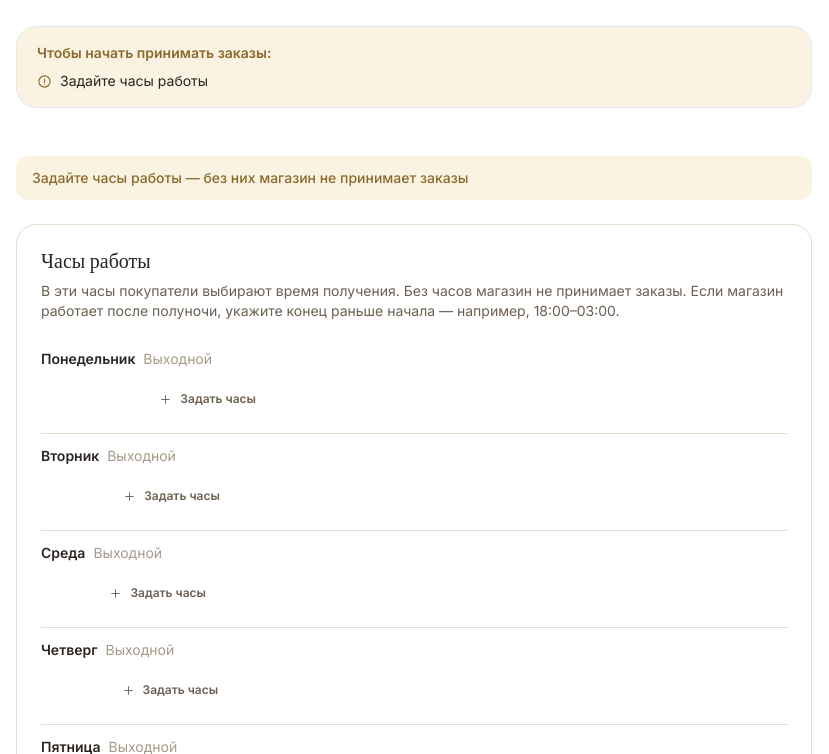
Test case: HoursPage › saves all seven days on the 5-minute grid, a day off as an empty list
The width and height of the screenshot is (829, 754).
Expected: the heading "Часы работы" is shown, 41,253 -> 151,273
Click the button "Задать часы" below "Понедельник".
click(208, 399)  # box 143,377 -> 272,421
(page scrolled)
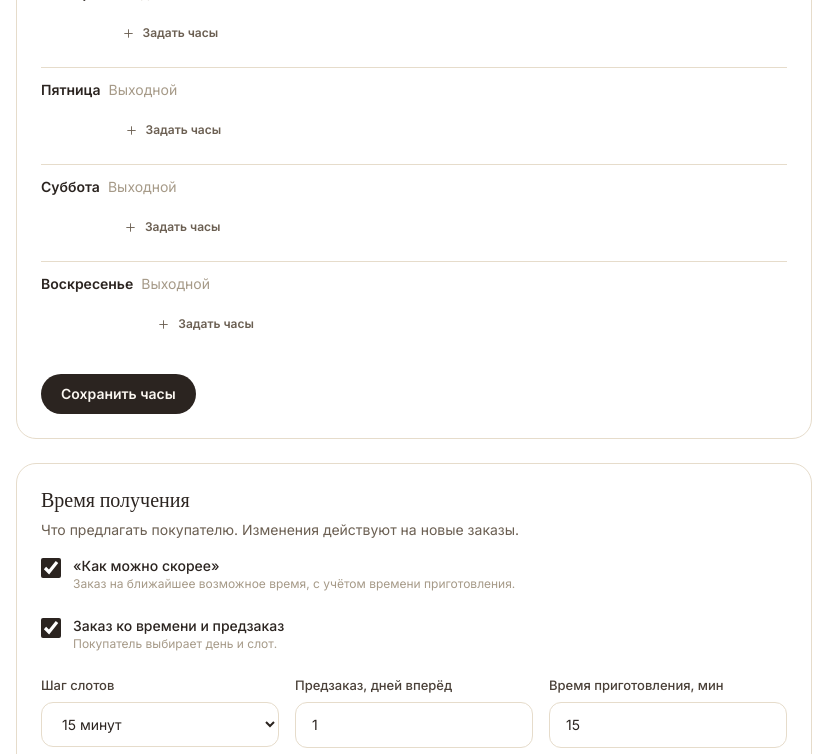
Click the button "Сохранить часы".
click(118, 394)  # box 41,374 -> 196,414
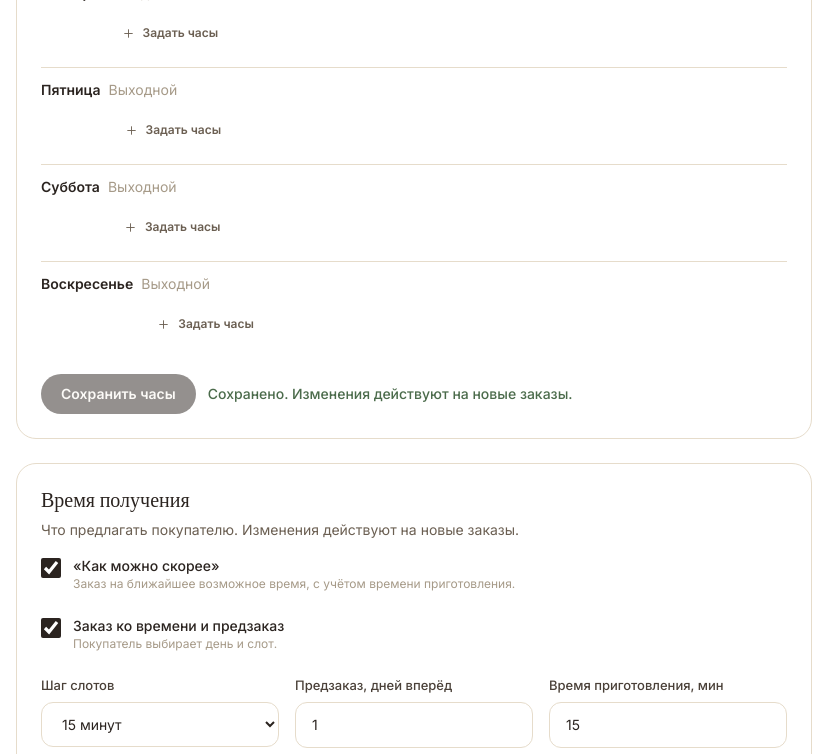
Expected: the text "Сохранено. Изменения действуют на новые заказы." is shown, 208,384 -> 572,404
